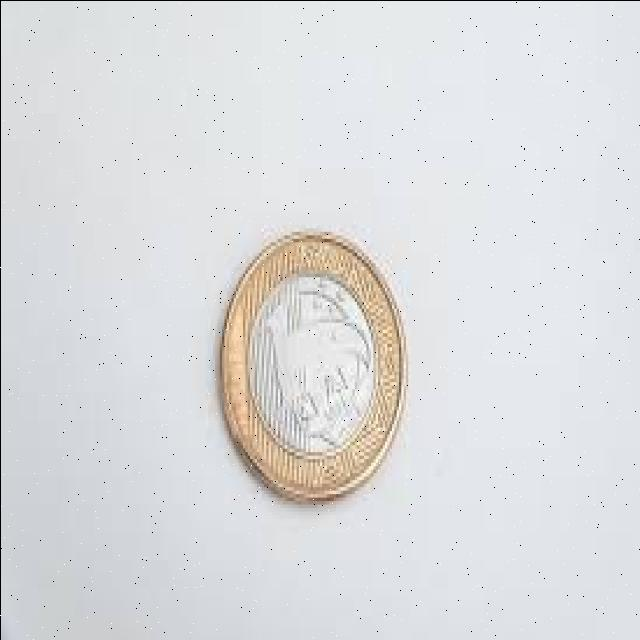1 real: (222, 234, 406, 506)
